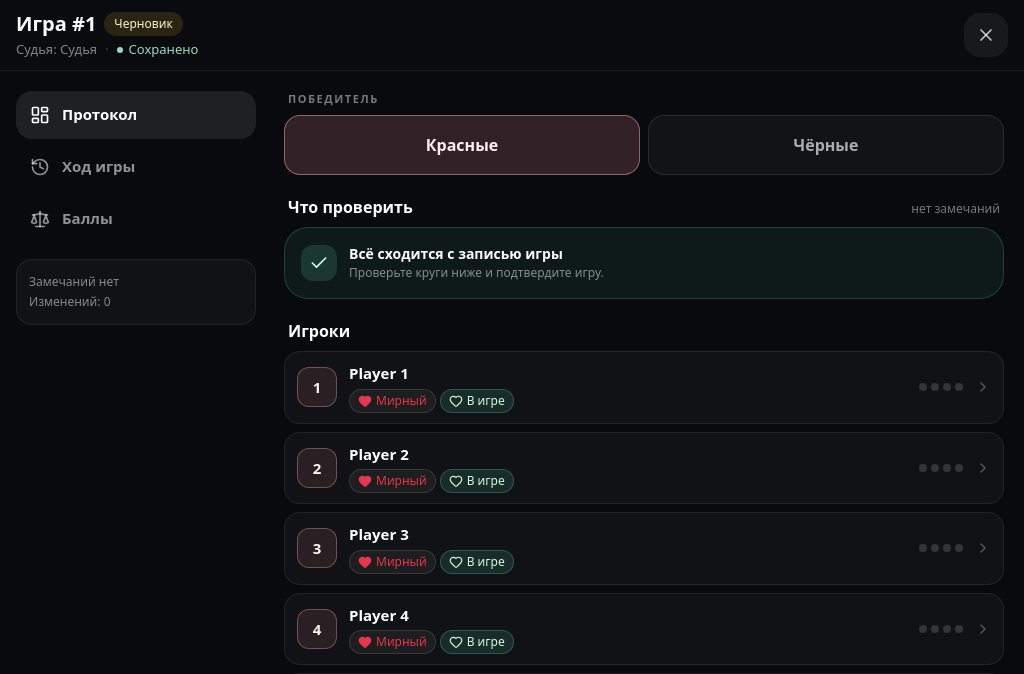
Test case: tournament protocol in the common protocol window › offers the old technical fouls to classify
The image size is (1024, 674).
Expected: the heading "Игра #1" is shown, [16,10,96,38]
Step 1. Click the button "Баллы" → (136, 218), box [16,194,256,242]
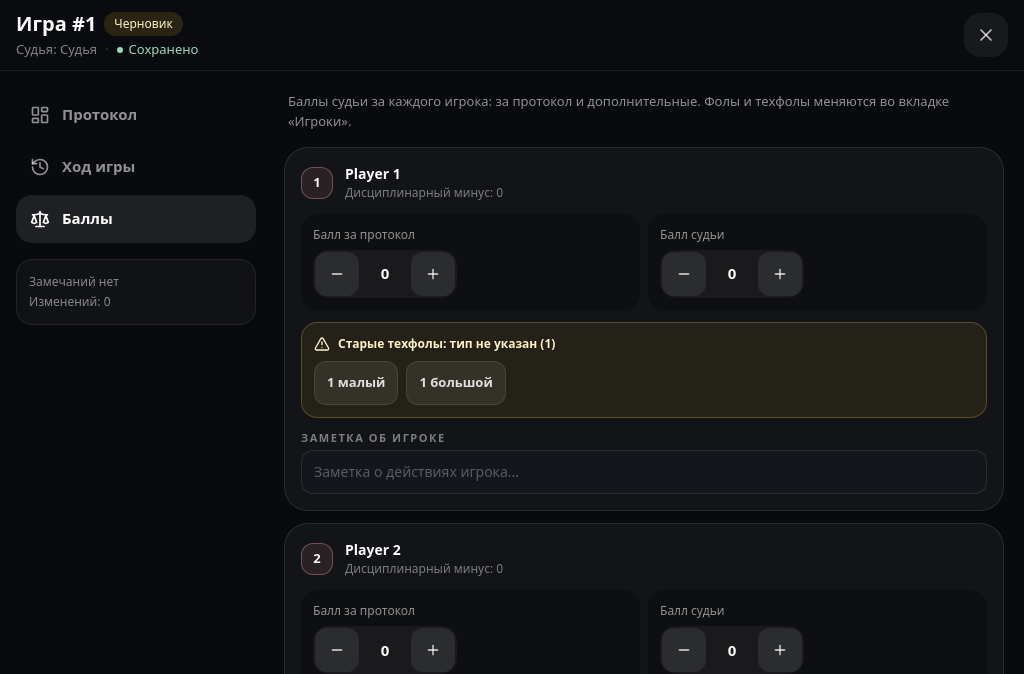
Expected: the button "1 малый" is enabled, [314,360,398,404]
